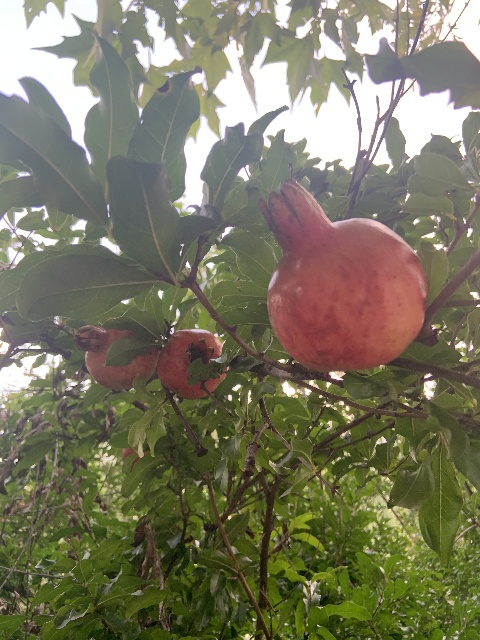ripe: (260, 180, 427, 374), (76, 324, 156, 390), (156, 329, 229, 399)
